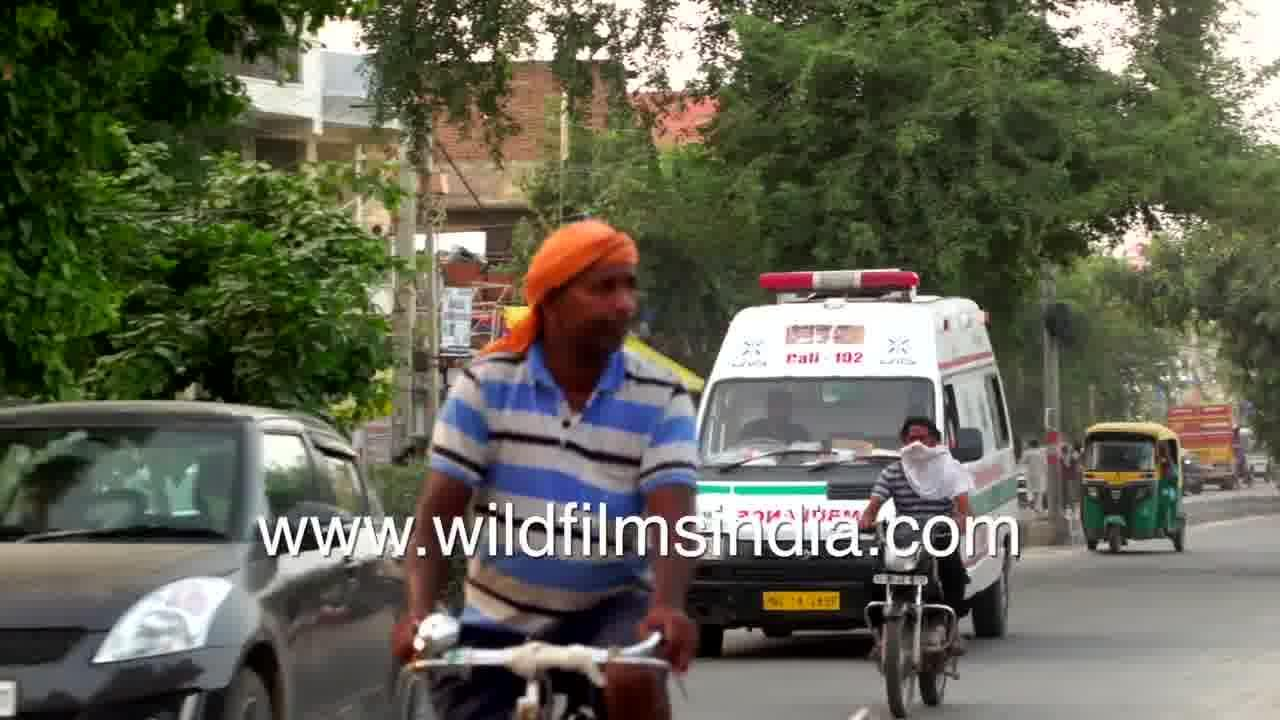AMBULANCE: (691, 260, 1030, 496)
